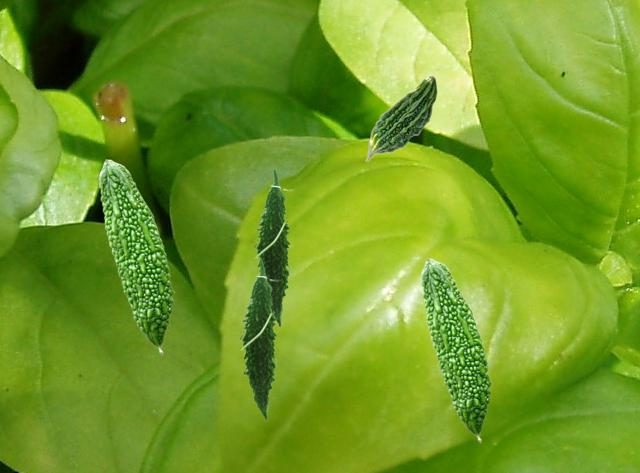ampalaya: (98, 158, 175, 355), (420, 258, 493, 443), (238, 257, 282, 421), (253, 167, 295, 327), (365, 75, 438, 162)
